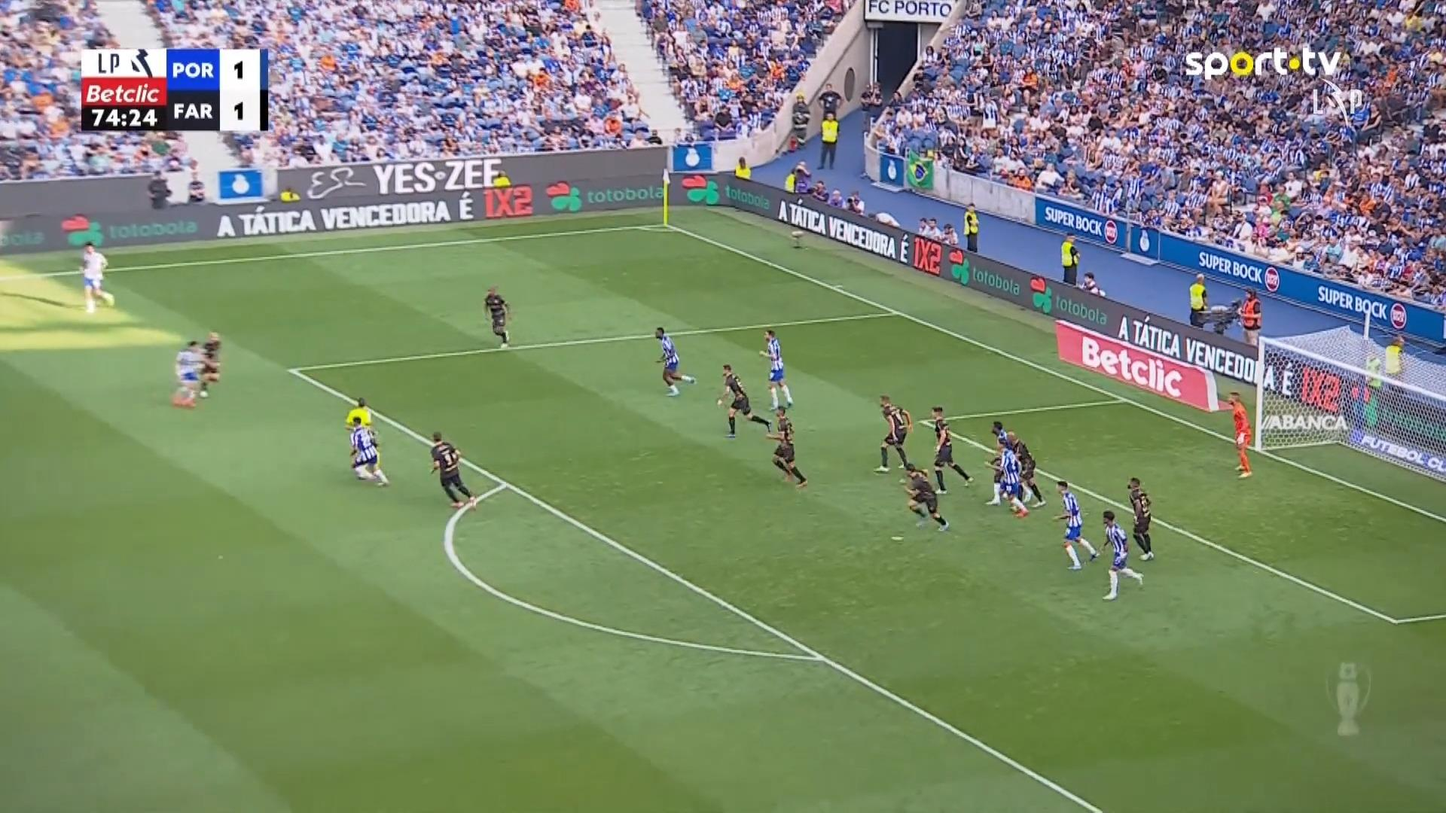goalkeeper: (1219, 390, 1253, 477)
player: (715, 363, 773, 438), (1097, 509, 1144, 601), (1051, 480, 1099, 570), (928, 405, 975, 494), (429, 431, 477, 510), (999, 429, 1045, 507), (764, 406, 807, 488), (898, 463, 949, 531), (874, 394, 913, 472), (654, 325, 696, 396), (758, 328, 793, 411), (348, 417, 389, 486), (996, 440, 1030, 517), (79, 241, 114, 313), (171, 339, 206, 407), (1126, 477, 1154, 560), (483, 285, 510, 348), (197, 330, 221, 397)
referee: (344, 396, 372, 434)
